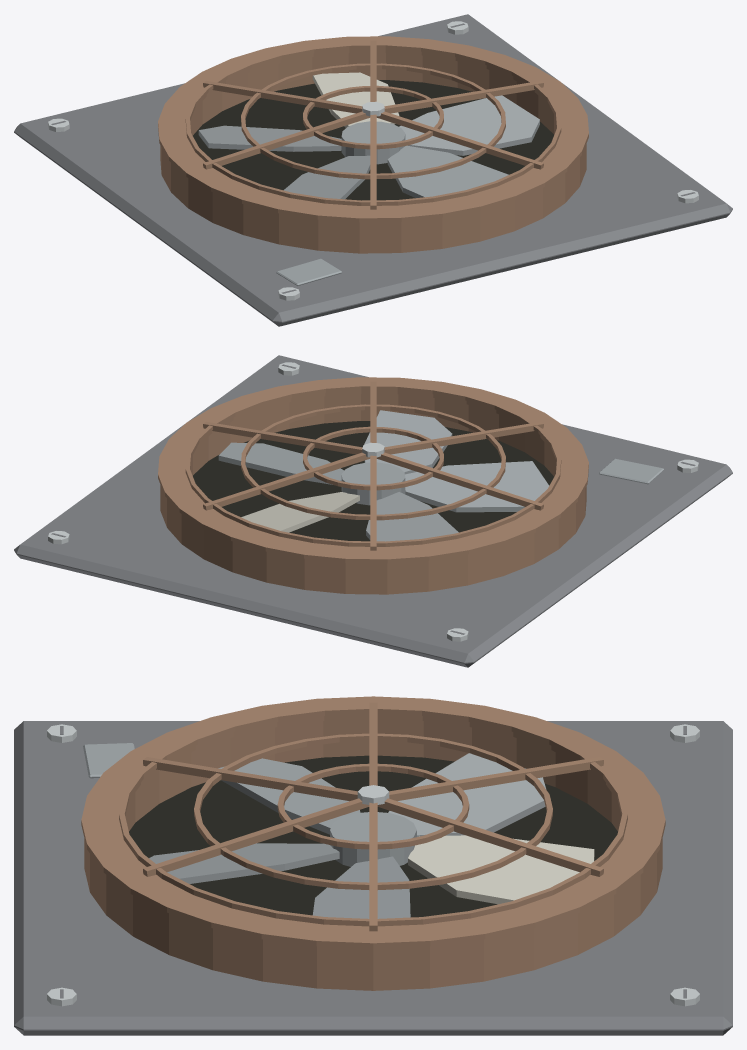
The model's file is FloorFan.fbx.
3 renders of one model, top to bottom at view 1: azimuth 30°, elevation 25°; view 2: azimuth 150°, elevation 25°; view 3: azimuth 270°, elevation 25°, orthographic. The views are drawn at different scales.
Parts seen in each view (by area): view 1: FanHousingAndGuard, FanRotor_BladesAndHub; view 2: FanHousingAndGuard, FanRotor_BladesAndHub; view 3: FanHousingAndGuard, FanRotor_BladesAndHub.
Part boxes in pixels (left/top/right/bottom): FanHousingAndGuard: left=14, top=14, right=732, bottom=326; FanRotor_BladesAndHub: left=198, top=72, right=539, bottom=199; FanHousingAndGuard: left=14, top=355, right=732, bottom=667; FanRotor_BladesAndHub: left=218, top=410, right=549, bottom=541; FanHousingAndGuard: left=14, top=696, right=732, bottom=1035; FanRotor_BladesAndHub: left=149, top=753, right=594, bottom=918.
Bounding box in the file's own units: 360 × 53.06 × 360.
